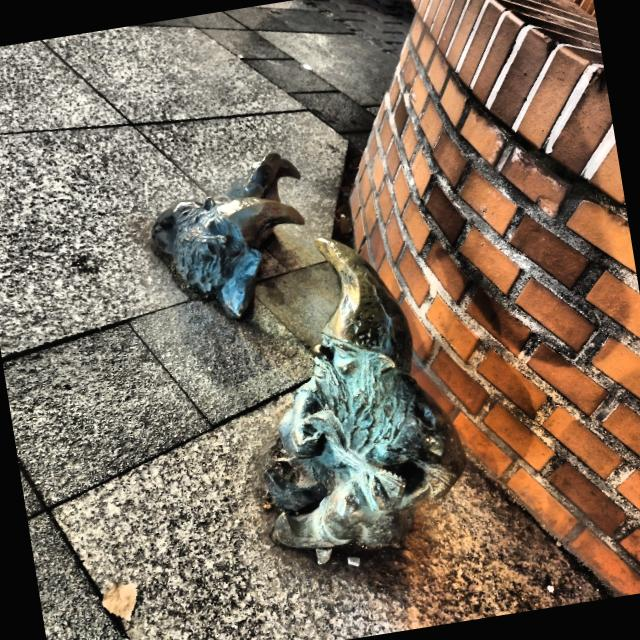Grajek_i_Meloman: (150, 153, 467, 565)
